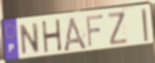A: (62, 15, 89, 52)
F: (85, 14, 105, 50)
H: (41, 18, 64, 55)
I: (140, 7, 150, 44)
N: (20, 21, 41, 56)
Z: (106, 10, 129, 47)
